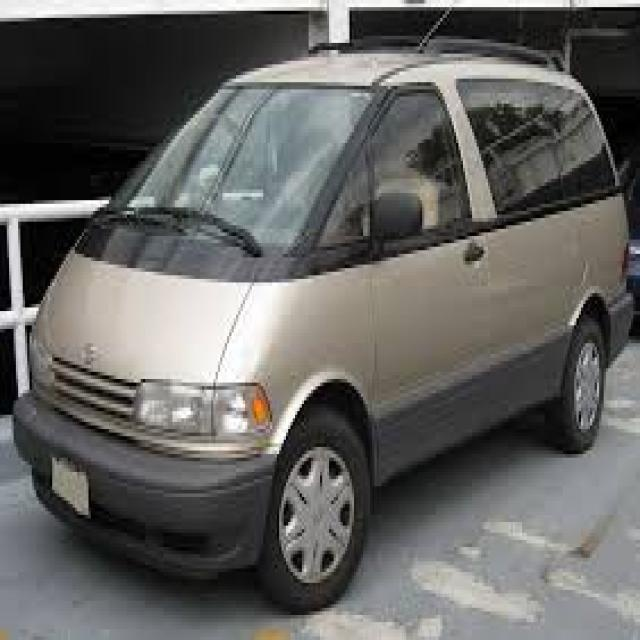Van: (16, 43, 624, 615)
